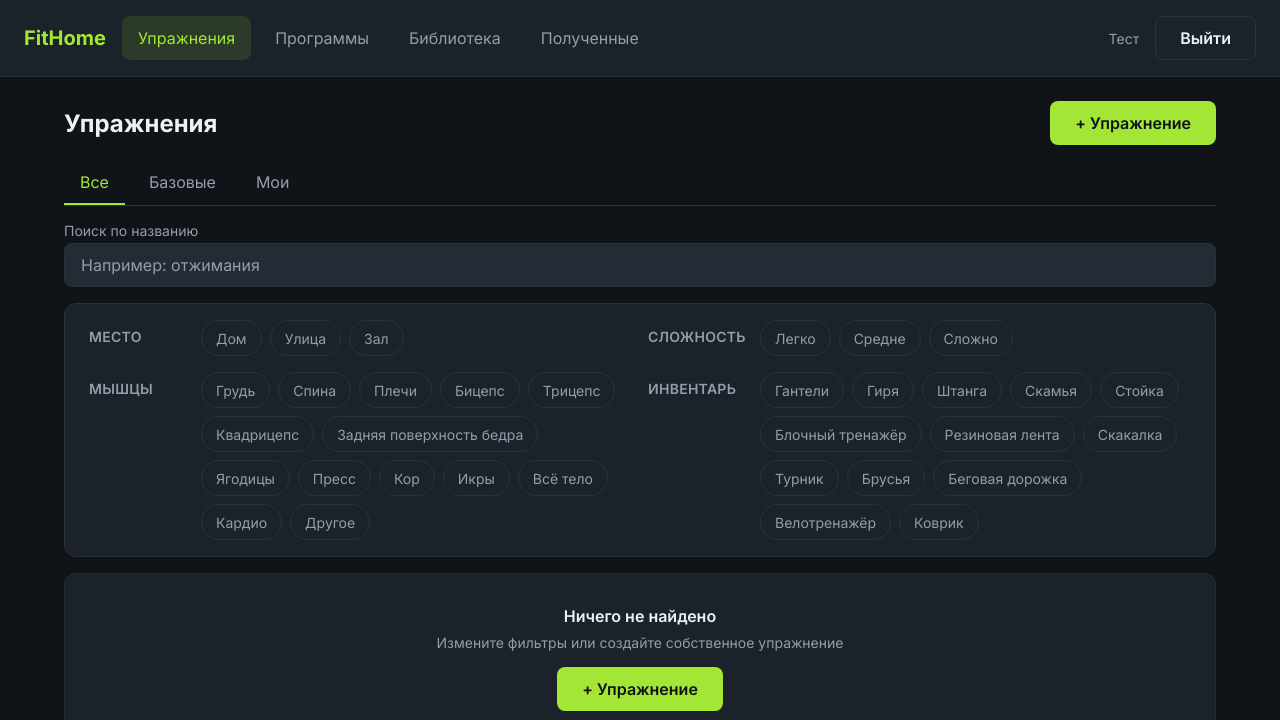
Test: ExercisesPage — вкладки Все / Базовые / Мои › пустые «Мои» → своя заглушка
The image size is (1280, 720).
Expected: the text "Ничего не найдено" is shown, [564,606,716,626]
Click the tab "Мои" at [273, 183], box [240,161,305,205]
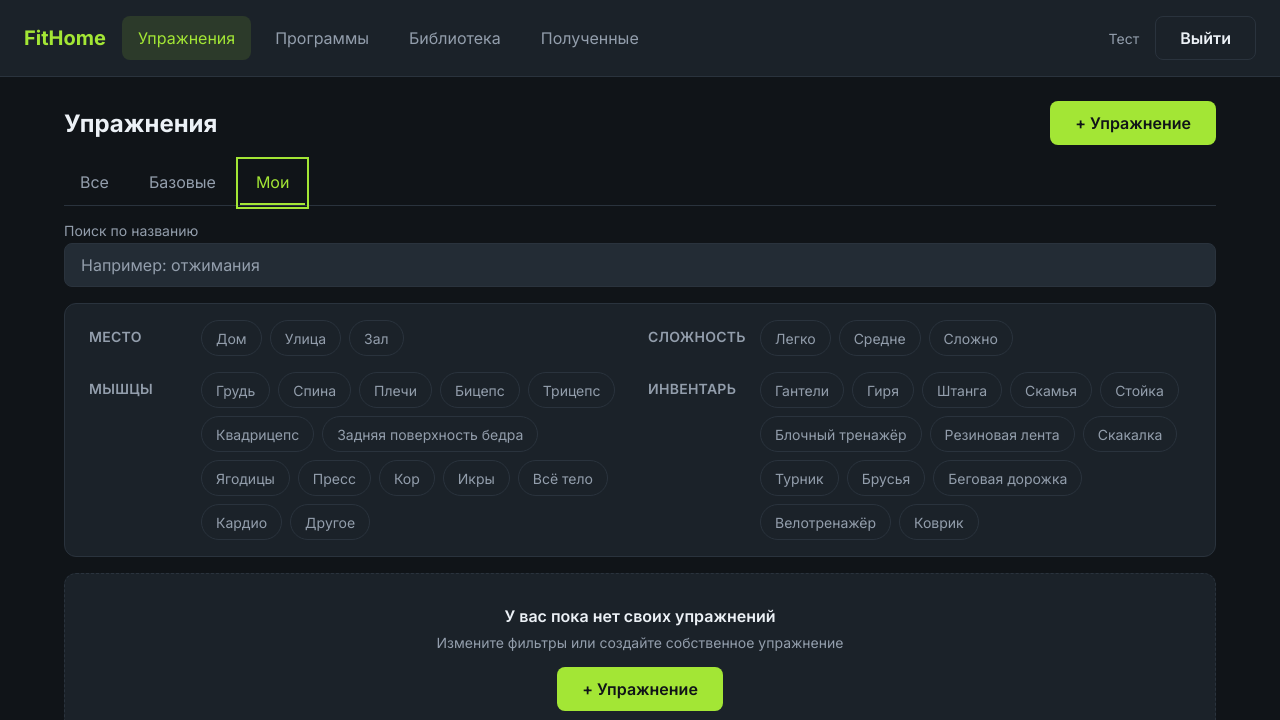
Expected: the text "У вас пока нет своих упражнений" is shown, [504,606,776,626]
